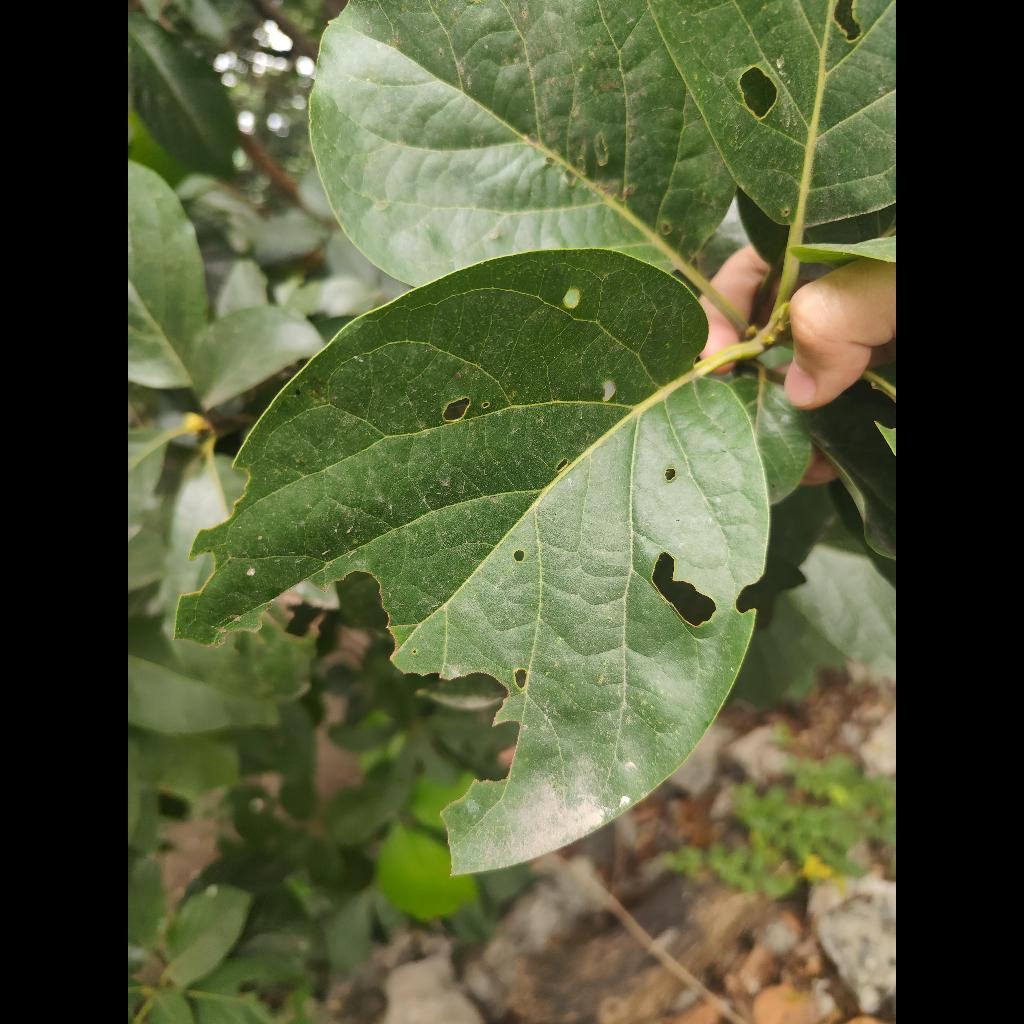Pest Infested: (178, 249, 769, 873)
